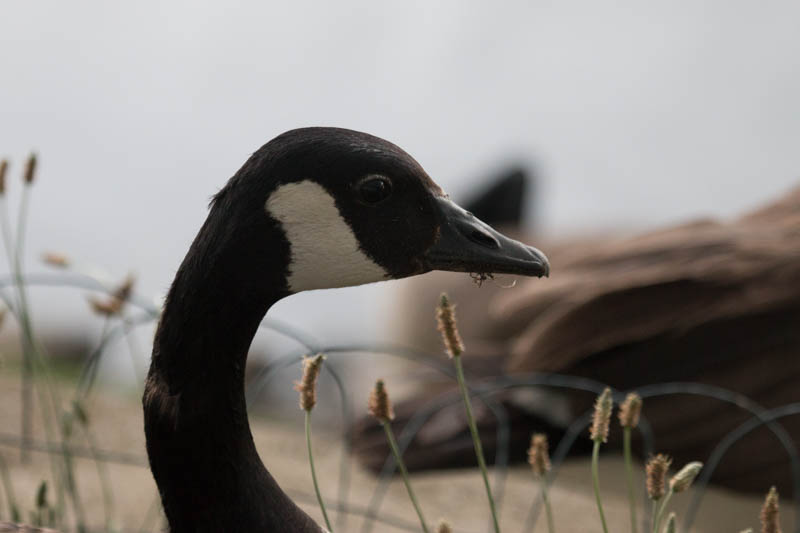goose-head: (191, 126, 552, 294)
